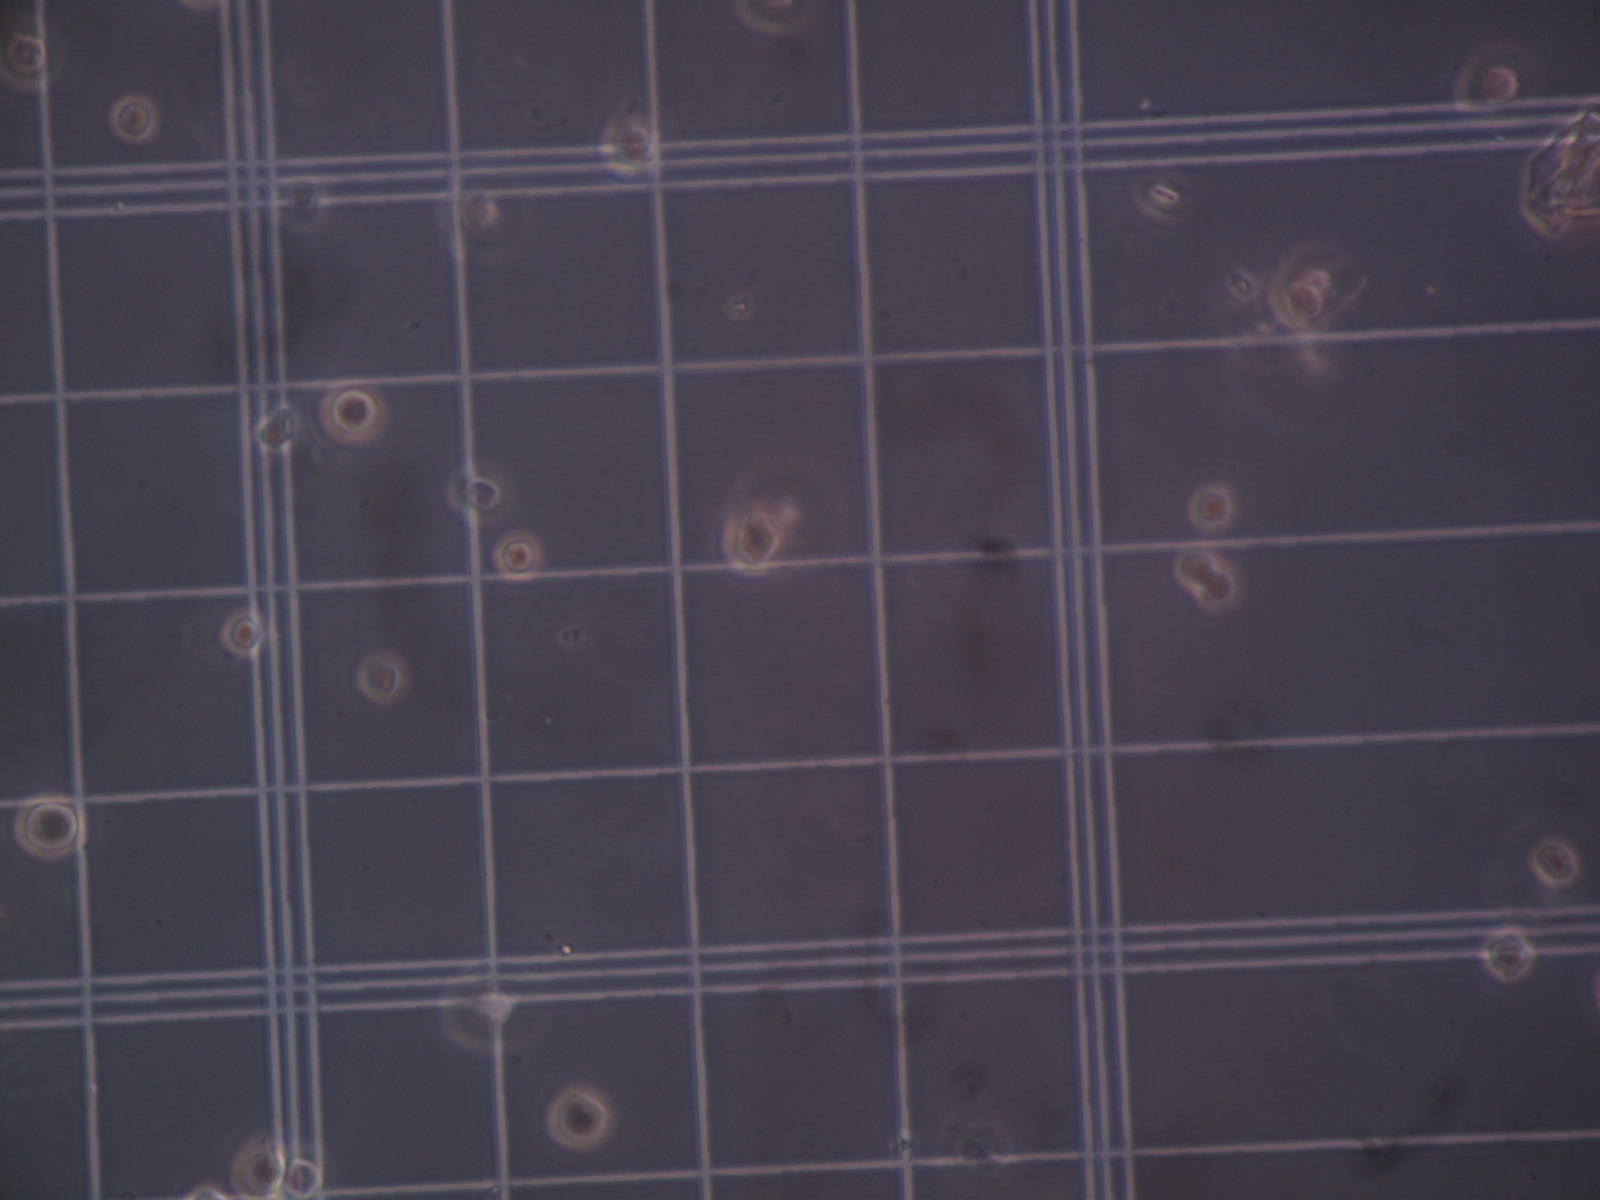hemo: (437, 954, 522, 1053), (437, 175, 504, 263), (1454, 45, 1524, 124), (1, 11, 68, 92), (14, 792, 87, 862), (317, 377, 391, 446), (721, 505, 784, 580), (548, 1087, 614, 1150), (597, 113, 659, 178), (1265, 267, 1328, 325), (1480, 925, 1534, 984), (228, 1138, 283, 1195), (285, 1139, 336, 1200), (494, 527, 546, 584), (1528, 833, 1580, 889), (357, 650, 408, 705), (443, 468, 501, 516), (1172, 547, 1220, 597), (220, 608, 266, 661), (1199, 565, 1245, 615), (254, 405, 300, 455), (110, 95, 155, 142), (1189, 485, 1231, 529)
